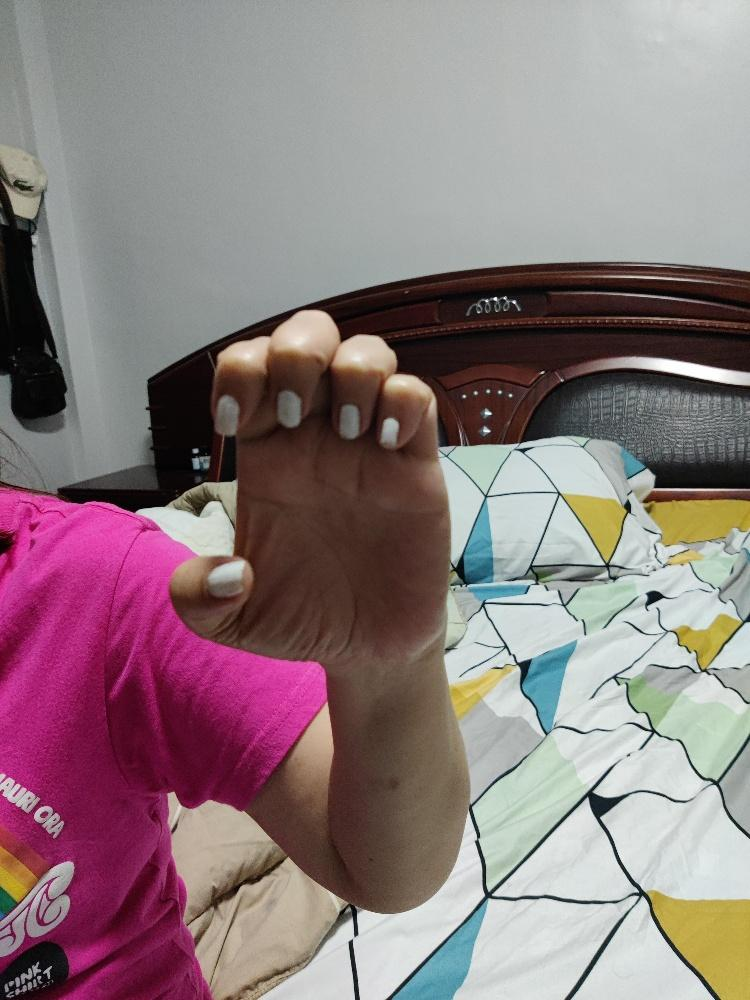e: (164, 308, 453, 664)
